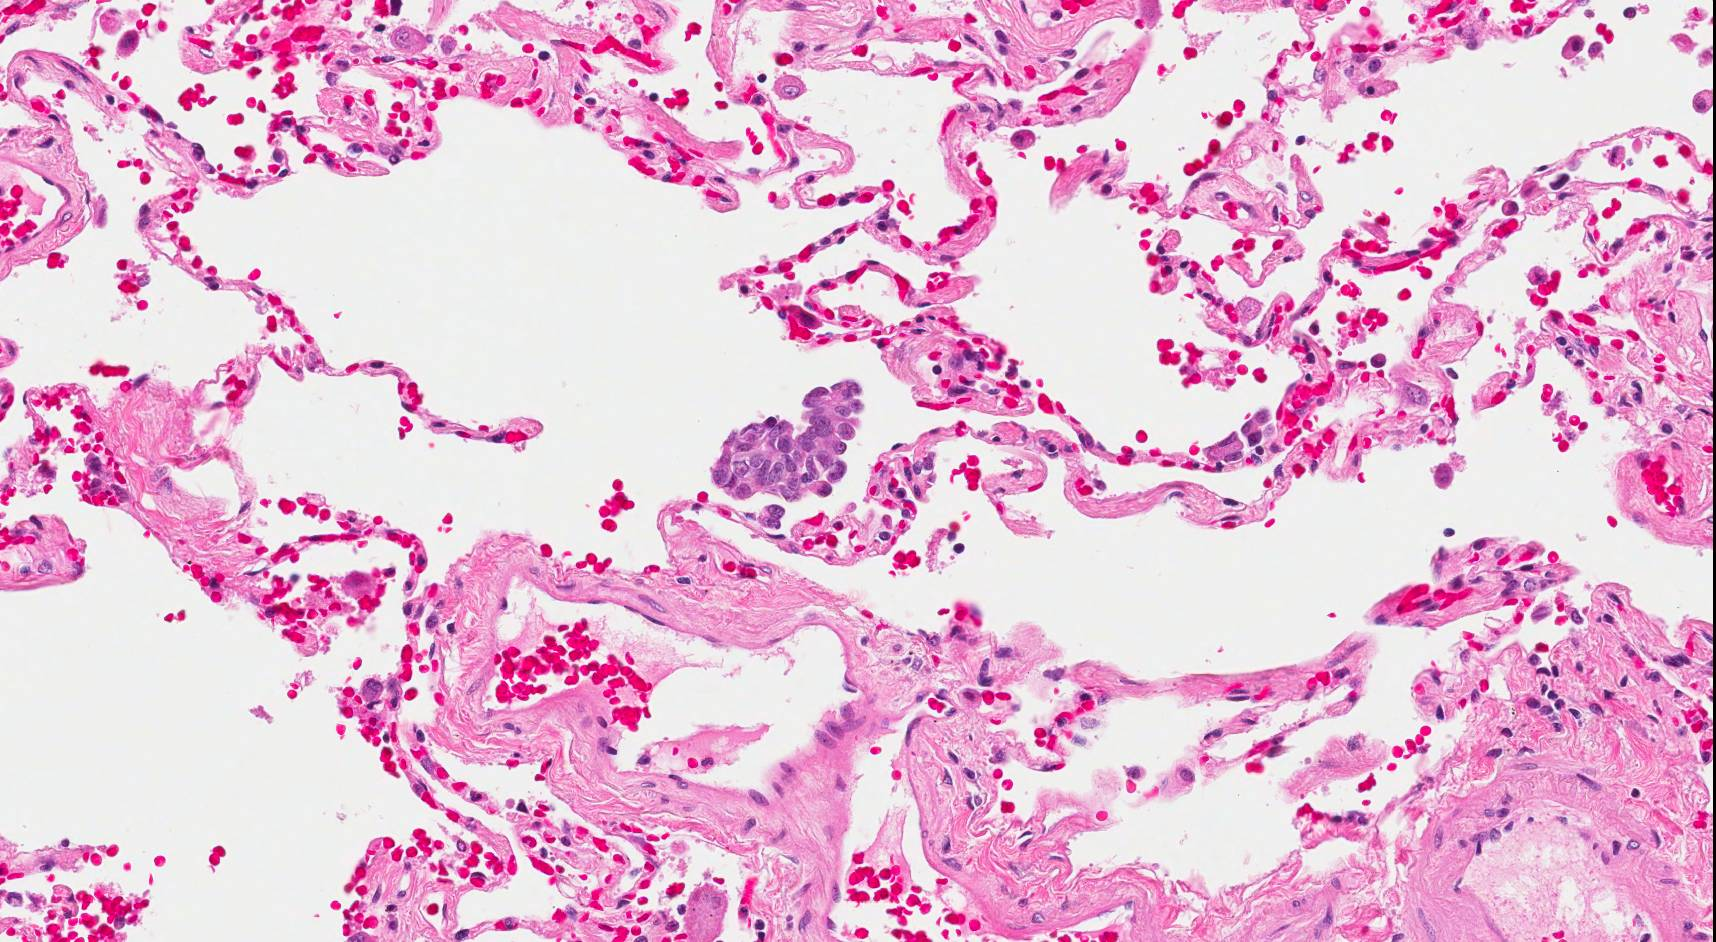stas: (709, 377, 865, 503), (752, 500, 791, 534)
